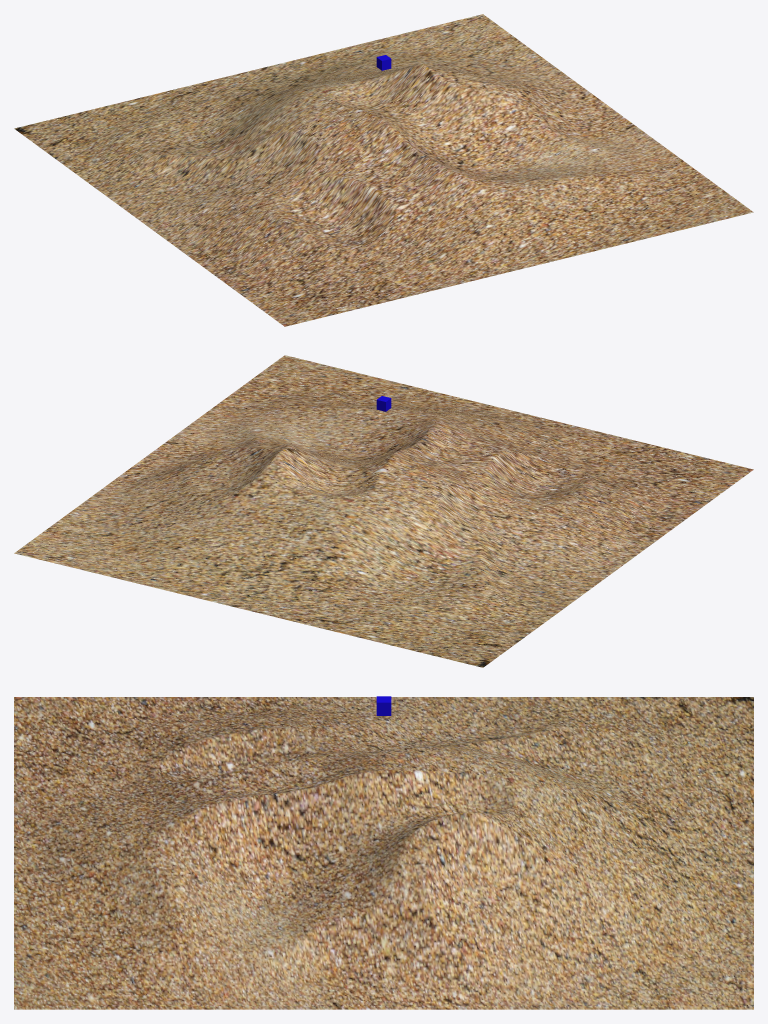
File: TestLandscape.glb
3 renders of one model, top to bottom at view 1: azimuth 30°, elevation 25°; view 2: azimuth 150°, elevation 25°; view 3: azimuth 270°, elevation 25°, orthographic. The views are drawn at different scales.
Parts seen in each view (by area): view 1: Caverne; view 2: Caverne; view 3: Caverne.
Part boxes in pixels (left/top/right/bottom): Caverne: left=14, top=14, right=753, bottom=326; Caverne: left=14, top=355, right=753, bottom=667; Caverne: left=14, top=697, right=753, bottom=1009.
Bounding box in the file's own units: 100 × 22.93 × 100.
Materials: 2 (1 with a texture image).
